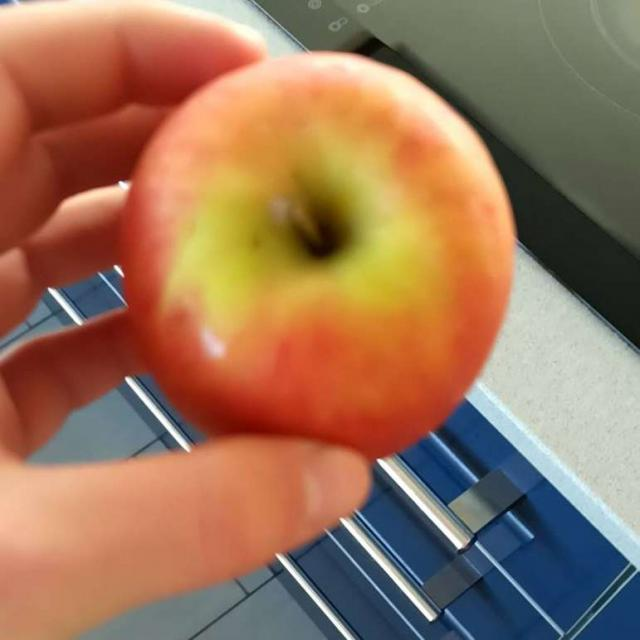apple: (137, 51, 507, 464)
